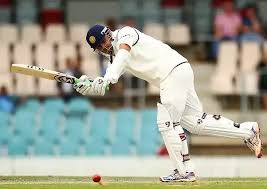bottom left: (9, 61, 18, 69)
bottom right: (8, 68, 17, 75)
top left: (72, 73, 78, 82)
top right: (67, 81, 75, 86)
